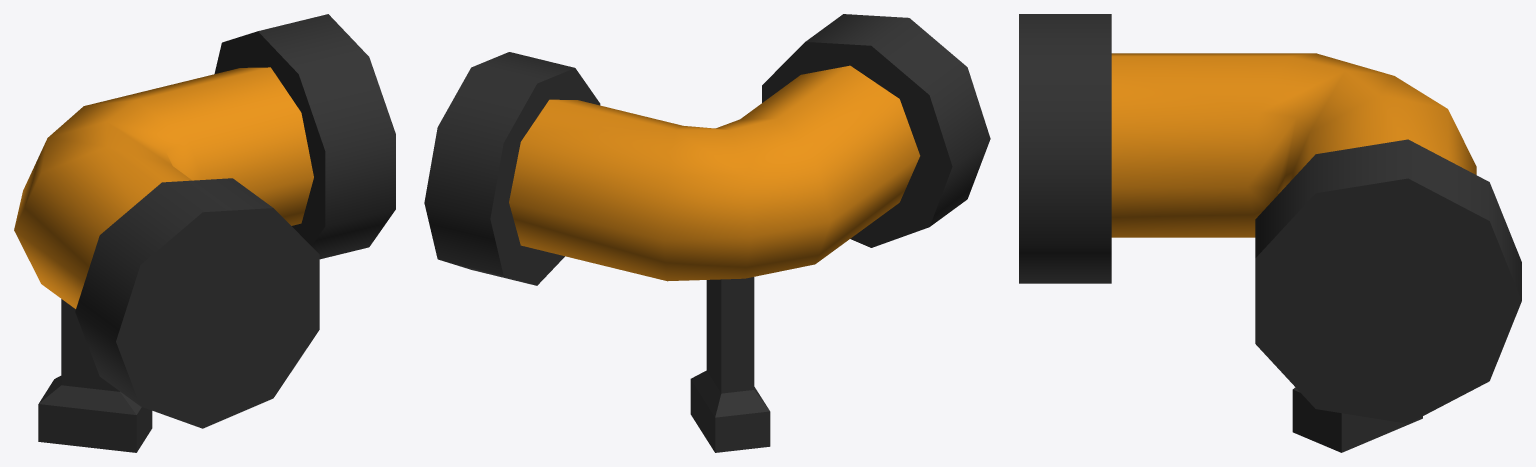
File: Pipe_1_C_3.fbx
3 renders of one model, left to right at view 1: azimuth 30°, elevation 25°; view 2: azimuth 150°, elevation 25°; view 3: azimuth 270°, elevation 25°, orthographic. The views are drawn at different scales.
Parts seen in each view (by area): view 1: Pipe_1_C_3; view 2: Pipe_1_C_3; view 3: Pipe_1_C_3.
Boxes of the visible parts, x1,y1,x2,y2 form: Pipe_1_C_3: (14, 14, 395, 452); Pipe_1_C_3: (424, 14, 990, 452); Pipe_1_C_3: (1019, 14, 1521, 452).
Bounding box in the file's own units: 55.93 × 47.63 × 55.93.
